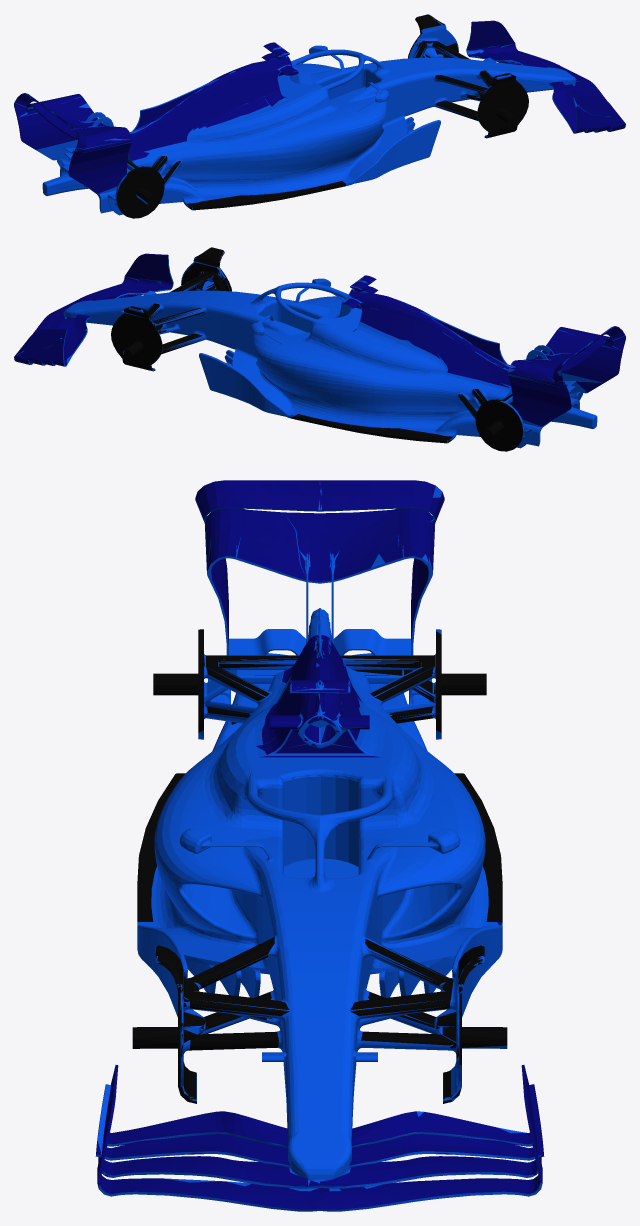
The model's file is CarBody.dae.
3 views of the same model, one above another, from view 1: azimuth 30°, elevation 25°; view 2: azimuth 150°, elevation 25°; view 3: azimuth 270°, elevation 25° (orthographic). The views are drawn at different scales.
Parts seen in each view (by area): view 1: CarBody; view 2: CarBody; view 3: CarBody.
Boxes of the visible parts, x1=… form: CarBody: x1=14, y1=14, x2=625, y2=218; CarBody: x1=14, y1=247, x2=625, y2=451; CarBody: x1=95, y1=480, x2=544, y2=1211.
Bounding box in the file's own units: 0.2283 × 0.0811 × 0.0455.
